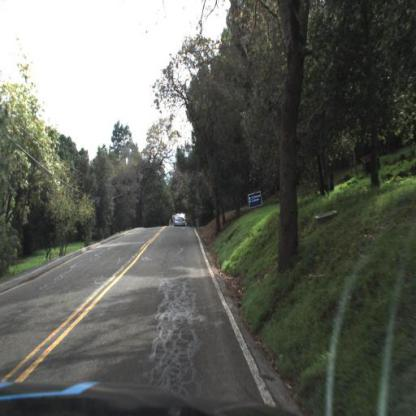car: (174, 209, 190, 229)
